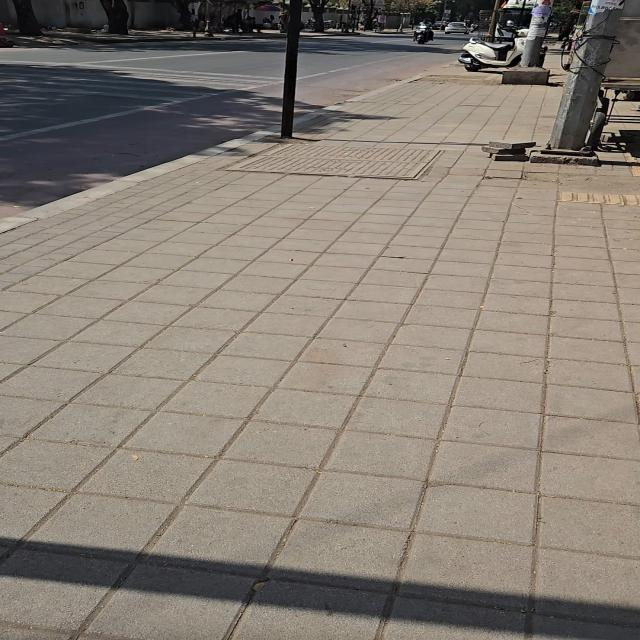pole: (550, 0, 622, 149), (281, 0, 302, 138), (520, 0, 552, 66), (488, 0, 502, 41), (205, 0, 212, 35)
